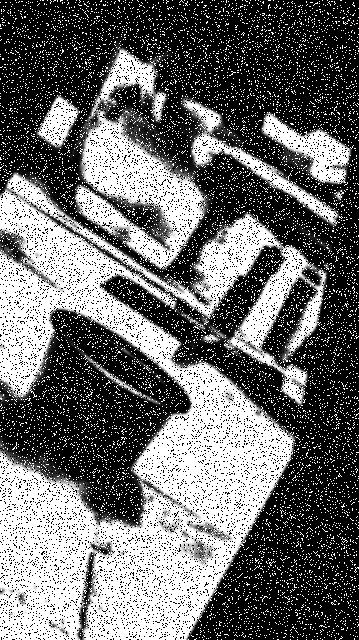pot: (20, 307, 190, 479)
